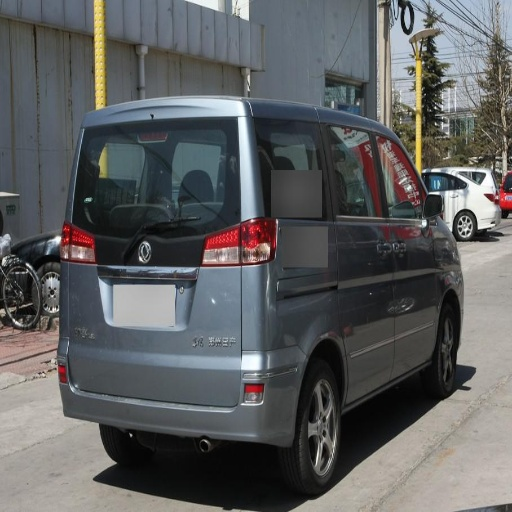back_bumper: (60, 264, 306, 442)
back_left_light: (58, 221, 96, 264)
back_right_door: (275, 126, 393, 398)
tailgate: (76, 224, 219, 269)
trunk: (64, 225, 266, 399), (280, 264, 338, 354)
